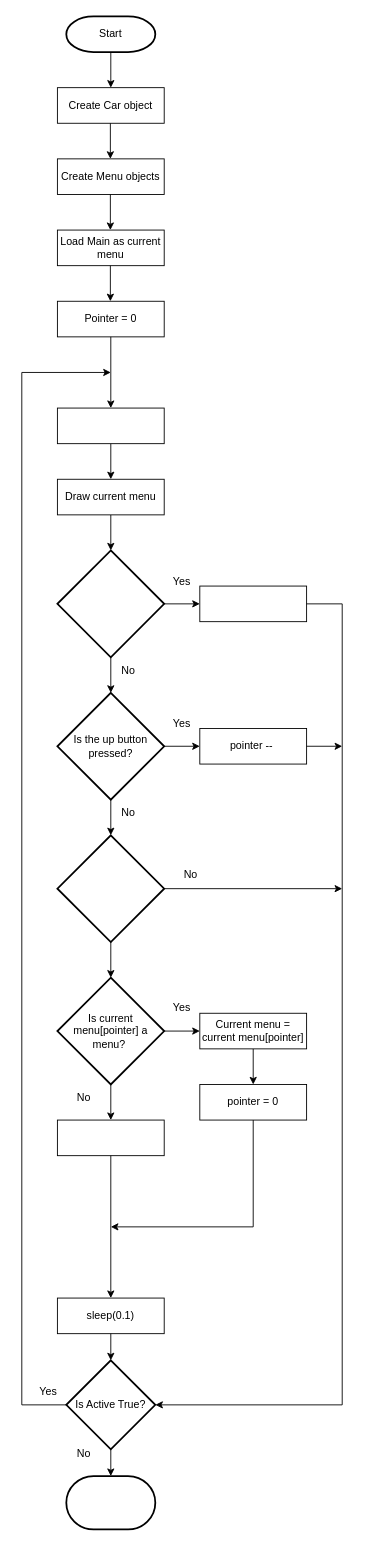
This 365x1545 diagram has some shape labels left out. Each missing label, with the box of its shape:
clear screen: (57, 407, 164, 444)
End: (65, 1475, 156, 1530)
Is the centre button pressed?: (56, 834, 165, 943)
Is the down button pressed?: (56, 549, 165, 658)
pointer++: (199, 585, 307, 622)
Run subroutine current menu[pointer]: (57, 1119, 164, 1156)
